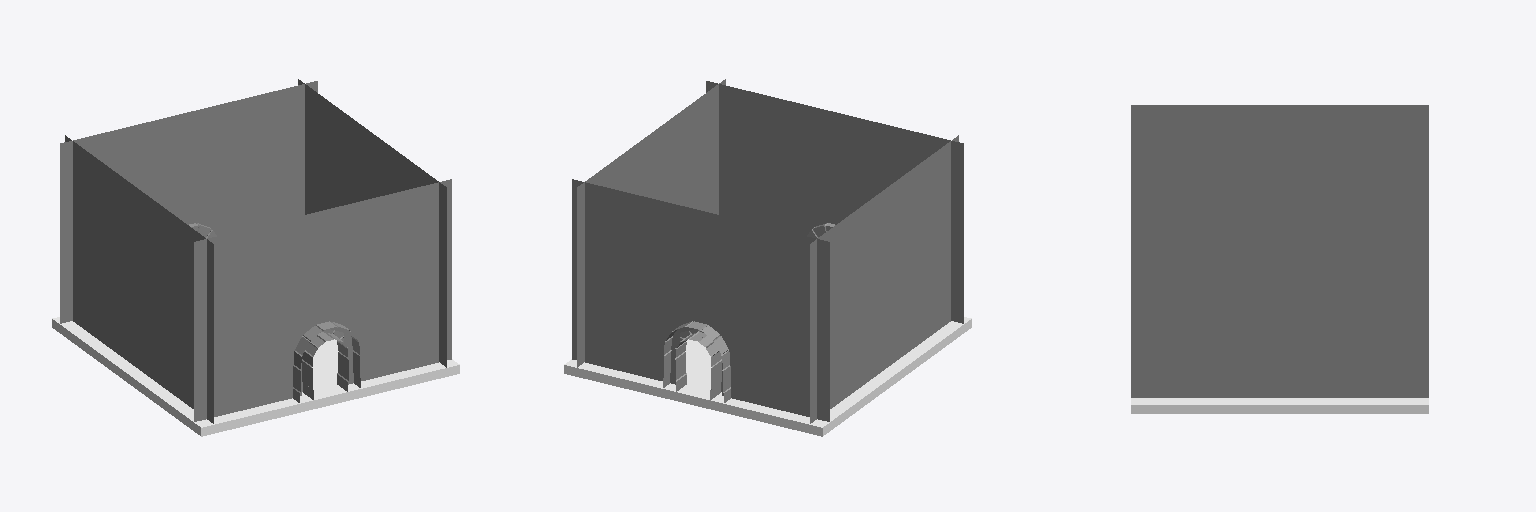
The model's file is topOpenStraight.obj.
3 views of the same model, side by side, from view 1: azimuth 30°, elevation 25°; view 2: azimuth 150°, elevation 25°; view 3: azimuth 270°, elevation 25° (orthographic).
Visible parts, largest first — view 1: struct_wall_main_half_8, struct_wall_main_half_10, struct_wall_main_half_11, struct_wall_main_half_7, block_default_2, struct_wall_main_half_4, struct_wall_main_half_3, struct_door_0, struct_wall_main_half_5, struct_door_1, struct_wall_main_half_6; view 2: struct_wall_main_half_8, struct_wall_main_half_11, struct_wall_main_half_10, struct_wall_main_half_7, block_default_2, struct_wall_main_half_6, struct_wall_main_half_5, struct_door_1, struct_wall_main_half_3, struct_door_0, struct_wall_main_half_4; view 3: struct_wall_main_half_7, struct_wall_main_half_8, block_default_2.
Boxes of the visible parts, box(x1,y1,x2,y2) form: struct_wall_main_half_8: box(65, 135, 213, 423); struct_wall_main_half_10: box(194, 179, 451, 331); struct_wall_main_half_11: box(60, 81, 317, 233); struct_wall_main_half_7: box(298, 79, 446, 367); block_default_2: box(52, 317, 459, 436); struct_wall_main_half_4: box(194, 311, 279, 421); struct_wall_main_half_3: box(366, 269, 451, 379); struct_door_0: box(280, 290, 365, 402); struct_wall_main_half_5: box(232, 174, 304, 232); struct_door_1: box(165, 192, 231, 238); struct_wall_main_half_6: box(60, 231, 72, 323); struct_wall_main_half_8: box(810, 135, 958, 423); struct_wall_main_half_11: box(572, 179, 829, 331); struct_wall_main_half_10: box(706, 81, 963, 233); struct_wall_main_half_7: box(577, 79, 725, 367); block_default_2: box(564, 317, 971, 436); struct_wall_main_half_6: box(744, 311, 829, 421); struct_wall_main_half_5: box(572, 269, 657, 379); struct_door_1: box(658, 290, 743, 402); struct_wall_main_half_3: box(719, 174, 791, 232); struct_door_0: box(792, 192, 858, 238); struct_wall_main_half_4: box(951, 231, 963, 323); struct_wall_main_half_7: box(1131, 218, 1428, 397); struct_wall_main_half_8: box(1131, 105, 1428, 217); block_default_2: box(1131, 398, 1428, 413).
Size of the model in its own units: 3 by 2.1 by 3.